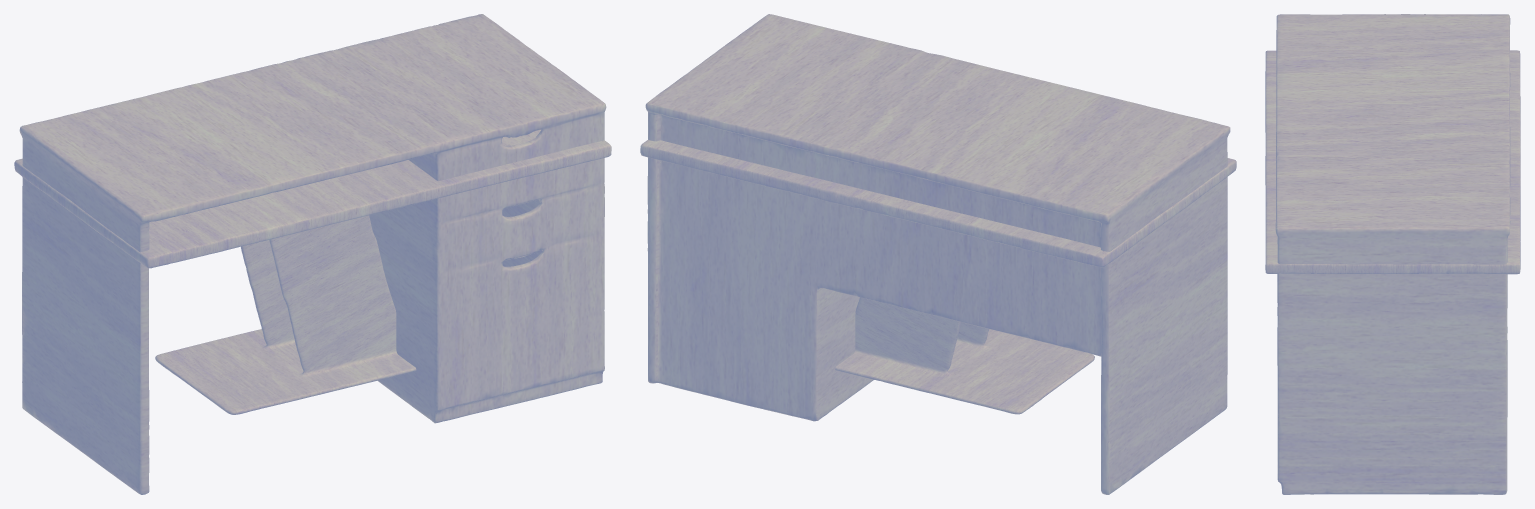
3 renders of one model, left to right at view 1: azimuth 30°, elevation 25°; view 2: azimuth 150°, elevation 25°; view 3: azimuth 270°, elevation 25°, orthographic. The views are drawn at different scales.
Visible parts, largest first — view 1: mesh_0 (×2); view 2: mesh_0 (×2); view 3: mesh_0 (×2).
Part boxes in pixels (left/top/right/bottom): mesh_0 (×2): left=14, top=14, right=611, bottom=494; mesh_0 (×2): left=640, top=14, right=1236, bottom=494; mesh_0 (×2): left=1265, top=14, right=1520, bottom=494.
Bounding box in the file's own units: 2.2 × 1.28 × 1.11.
2 materials, 2 textured.
